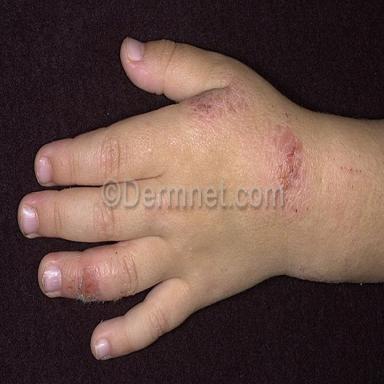eczema: (189, 87, 305, 195), (66, 265, 101, 301)
